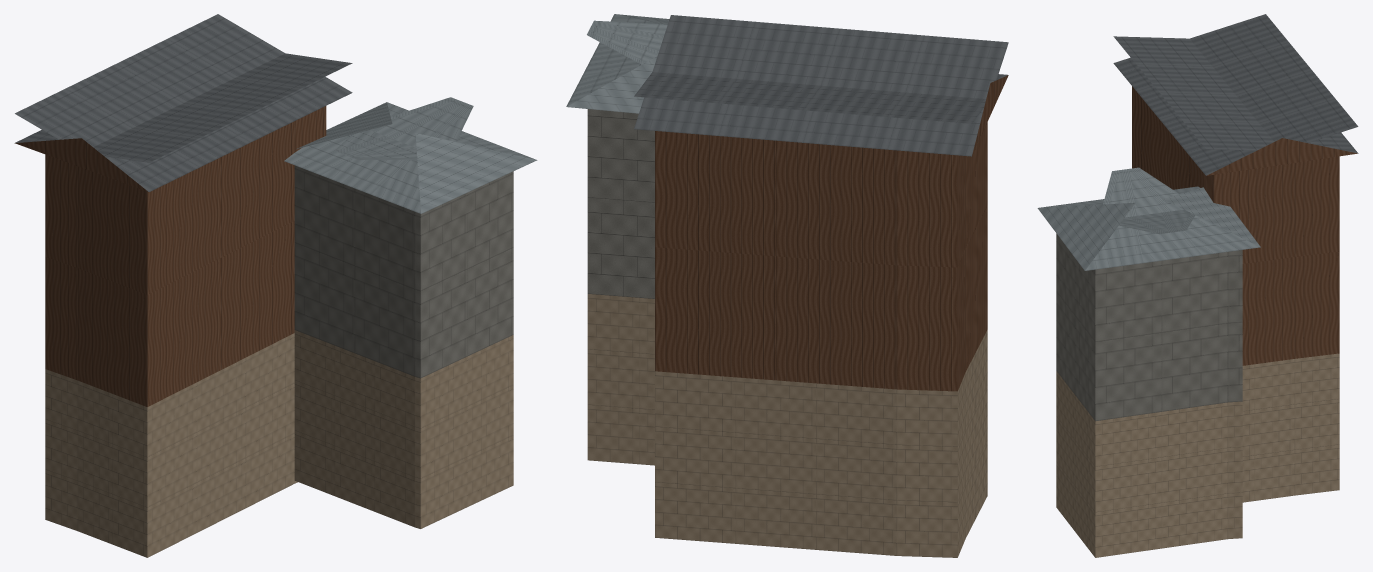
The model's file is bld_c38_34_297.gltf.
3 renders of one model, left to right at view 1: azimuth 30°, elevation 25°; view 2: azimuth 150°, elevation 25°; view 3: azimuth 270°, elevation 25°, orthographic. The views are drawn at different scales.
Visible parts, largest first — view 1: bld_c38_34_297; view 2: bld_c38_34_297; view 3: bld_c38_34_297.
Part boxes in pixels (left/top/right/bottom): bld_c38_34_297: left=14, top=14, right=537, bottom=557; bld_c38_34_297: left=566, top=14, right=1008, bottom=557; bld_c38_34_297: left=1037, top=14, right=1358, bottom=557.
Size of the model in its own units: 14.99 by 13.7 by 10.86.
6 materials, 6 textured.
